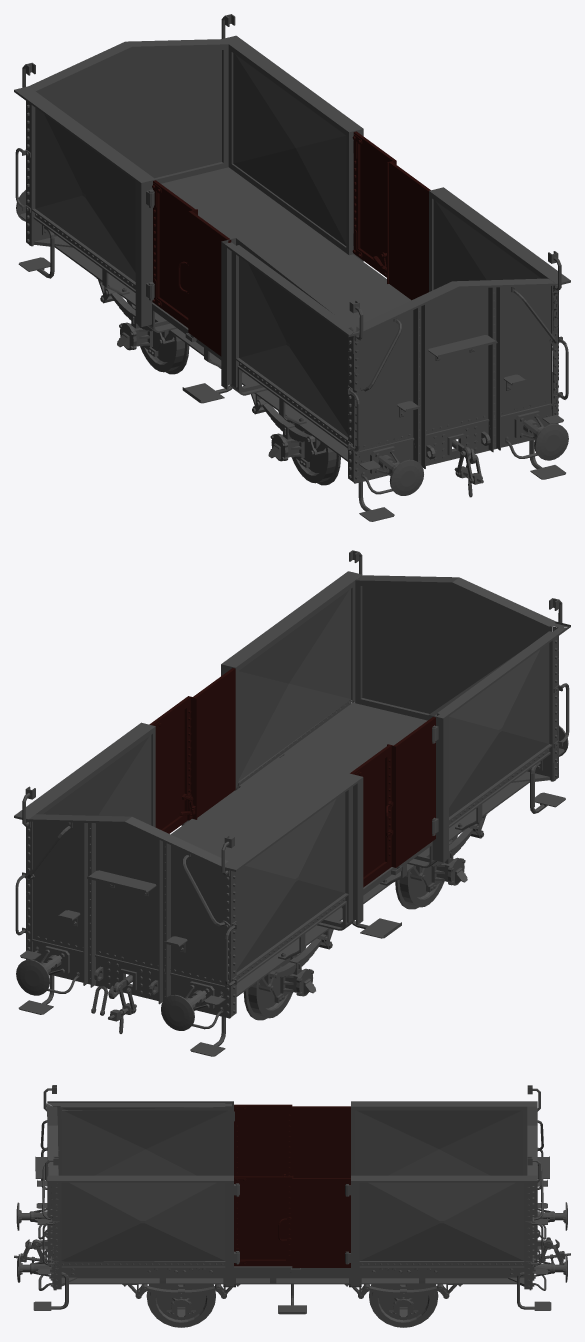
Rendered from cart2.fbx.
The picture shows the model from 3 angles, top to bottom: view 1: azimuth 30°, elevation 25°; view 2: azimuth 150°, elevation 25°; view 3: azimuth 270°, elevation 25°; orthographic projection. The views are drawn at different scales.
Visible parts, largest first — view 1: Boxcar_bod.025, Boxcar_bod.017, Boxcar_bod.010, Boxcar_bod.002, Boxcar_bod, Boxcar_bod.001, Boxcar_do2, Boxcar_do1, Boxcar_doo, Boxcar_do0, Boxcar_bod.003, Wheels1 (+2 smaller); view 2: Boxcar_bod.002, Boxcar_bod.017, Boxcar_bod.010, Boxcar_bod.025, Boxcar_bod, Boxcar_bod.001, Boxcar_do0, Boxcar_do1, Boxcar_do2, Boxcar_doo, Boxcar_bod.024, Wheels2 (+3 smaller); view 3: Boxcar_bod.010, Boxcar_bod.017, Boxcar_bod, Boxcar_do2, Boxcar_do1, Boxcar_do0, Boxcar_doo, Boxcar_bod.002, Boxcar_bod.025, Wheels2, Wheels1, Boxcar_bod.013 (+1 smaller).
Boxes of the visible parts, left/top/right/bottom form: Boxcar_bod.025: left=347, top=251, right=568, bottom=521; Boxcar_bod.017: left=14, top=86, right=359, bottom=450; Boxcar_bod.010: left=222, top=35, right=570, bottom=424; Boxcar_bod.002: left=15, top=14, right=235, bottom=278; Boxcar_bod: left=18, top=164, right=568, bottom=521; Boxcar_bod.001: left=161, top=167, right=410, bottom=353; Boxcar_do2: left=389, top=161, right=430, bottom=300; Boxcar_do1: left=352, top=131, right=396, bottom=283; Boxcar_doo: left=152, top=180, right=195, bottom=327; Boxcar_do0: left=188, top=209, right=231, bottom=356; Boxcar_bod.003: left=17, top=20, right=228, bottom=234; Wheels1: left=292, top=423, right=340, bottom=485; Boxcar_bod.002: left=14, top=787, right=238, bottom=1056; Boxcar_bod.017: left=218, top=607, right=570, bottom=994; Boxcar_bod.010: left=14, top=571, right=362, bottom=950; Boxcar_bod.025: left=345, top=550, right=570, bottom=813; Boxcar_bod: left=18, top=700, right=568, bottom=1056; Boxcar_bod.001: left=174, top=703, right=427, bottom=860; Boxcar_do0: left=387, top=717, right=435, bottom=867; Boxcar_do1: left=149, top=696, right=197, bottom=833; Boxcar_do2: left=193, top=668, right=235, bottom=817; Boxcar_doo: left=350, top=745, right=393, bottom=887; Boxcar_bod.024: left=351, top=552, right=569, bottom=753; Wheels2: left=243, top=958, right=292, bottom=1020; Boxcar_bod.010: left=46, top=1175, right=542, bottom=1284; Boxcar_bod.017: left=42, top=1095, right=539, bottom=1189; Boxcar_bod: left=17, top=1203, right=565, bottom=1318; Boxcar_do2: left=234, top=1176, right=292, bottom=1266; Boxcar_do1: left=292, top=1175, right=350, bottom=1267; Boxcar_do0: left=234, top=1104, right=292, bottom=1176; Boxcar_doo: left=292, top=1106, right=350, bottom=1177; Boxcar_bod.002: left=510, top=1085, right=567, bottom=1310; Boxcar_bod.025: left=16, top=1085, right=77, bottom=1310; Wheels2: left=369, top=1284, right=438, bottom=1327; Wheels1: left=146, top=1284, right=215, bottom=1327; Boxcar_bod.013: left=225, top=1184, right=359, bottom=1286.
Bounding box in the file's own units: 116 × 127 × 343.
